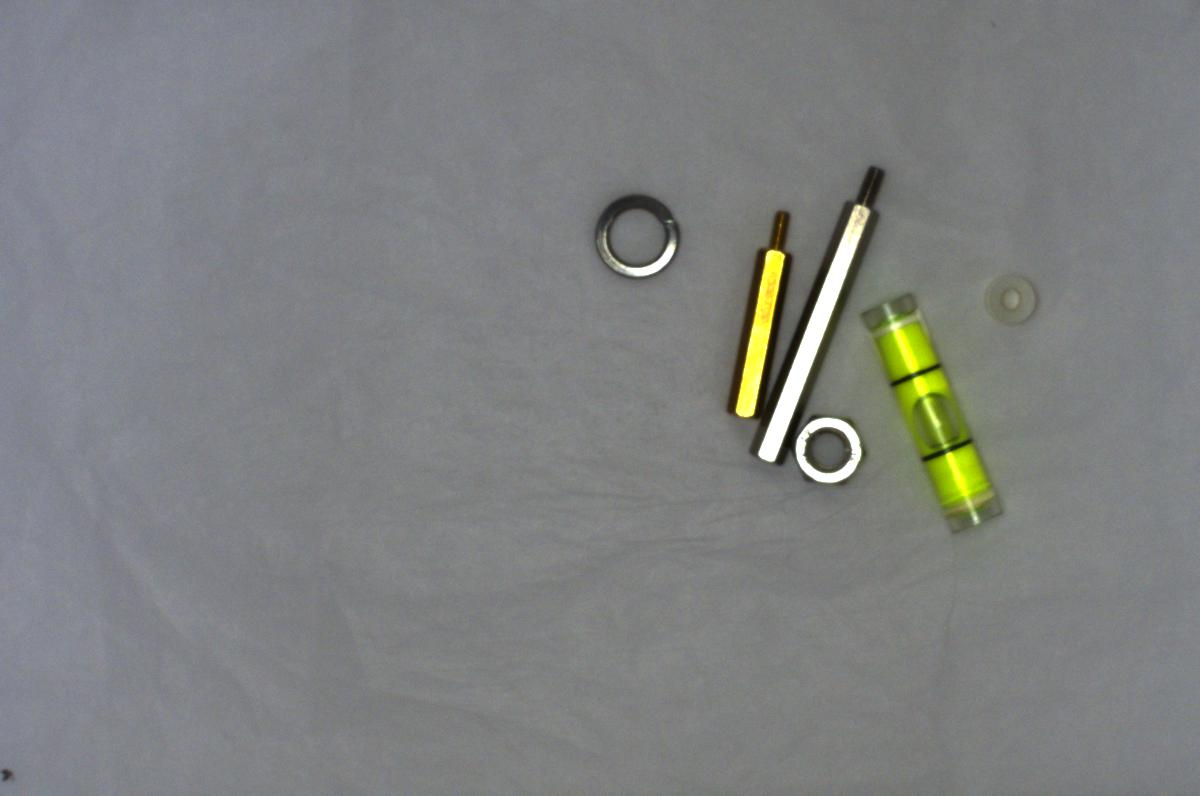Hexagon nut: (785, 406, 869, 496)
Hexagon pillar: (712, 206, 794, 421)
Hexagonal steel column: (742, 158, 883, 468)
Horizontal bubble: (856, 283, 1003, 533)
Plastic cushion pillar: (973, 258, 1046, 327)
Spring washer: (575, 191, 685, 286)
